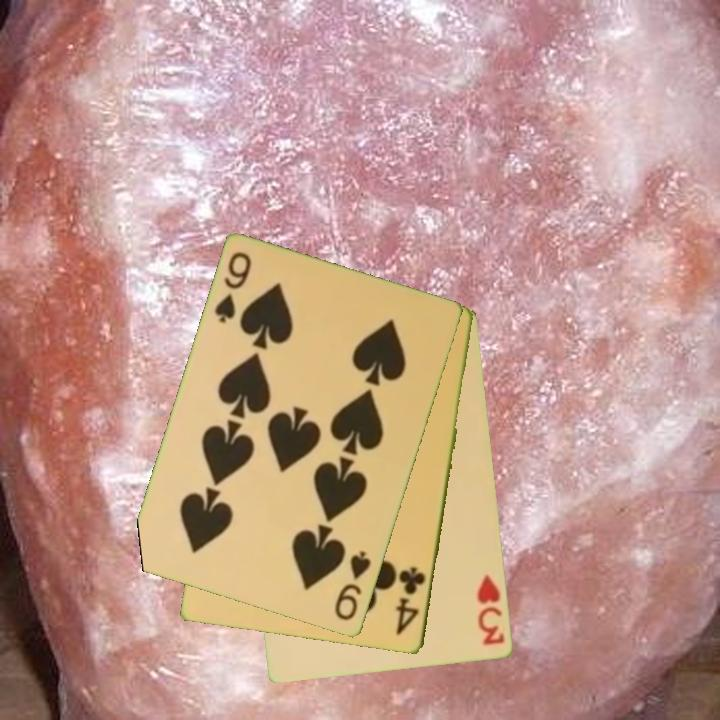3h: (474, 572, 508, 649)
4c: (392, 564, 429, 638)
9s: (211, 249, 255, 327), (331, 548, 374, 624)
